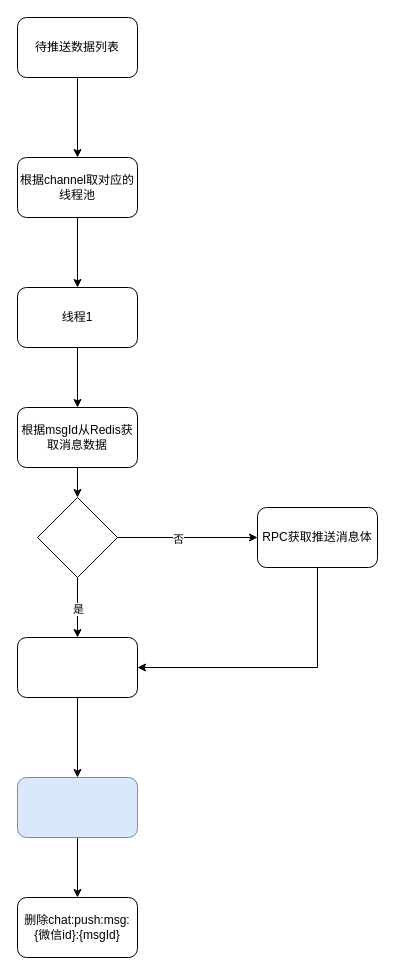
Some shapes in this 395 by 975 pixel diagram are drawn without their labels. The shapes that lost their labels are listed below. From the top down, each one's centre as x and y in pixels, then its label:
[77,537]: 是否为文本
[77,667]: 推送消息
[77,807]: 消息频控，判断上次推送时间，如果超过频控次数，丢失消息
